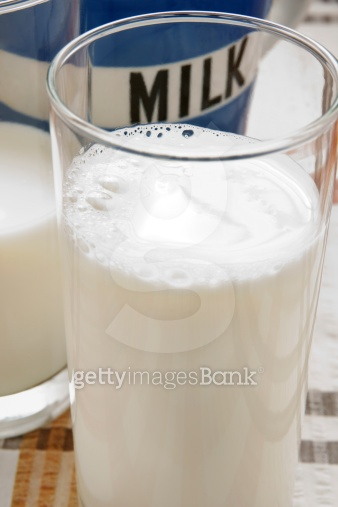glass of milk: (47, 26, 329, 507)
